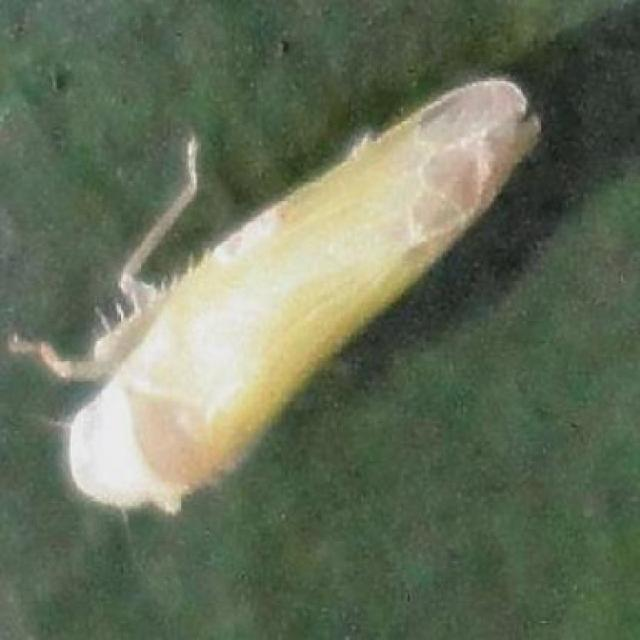green-leafhopper: (8, 72, 545, 516)
